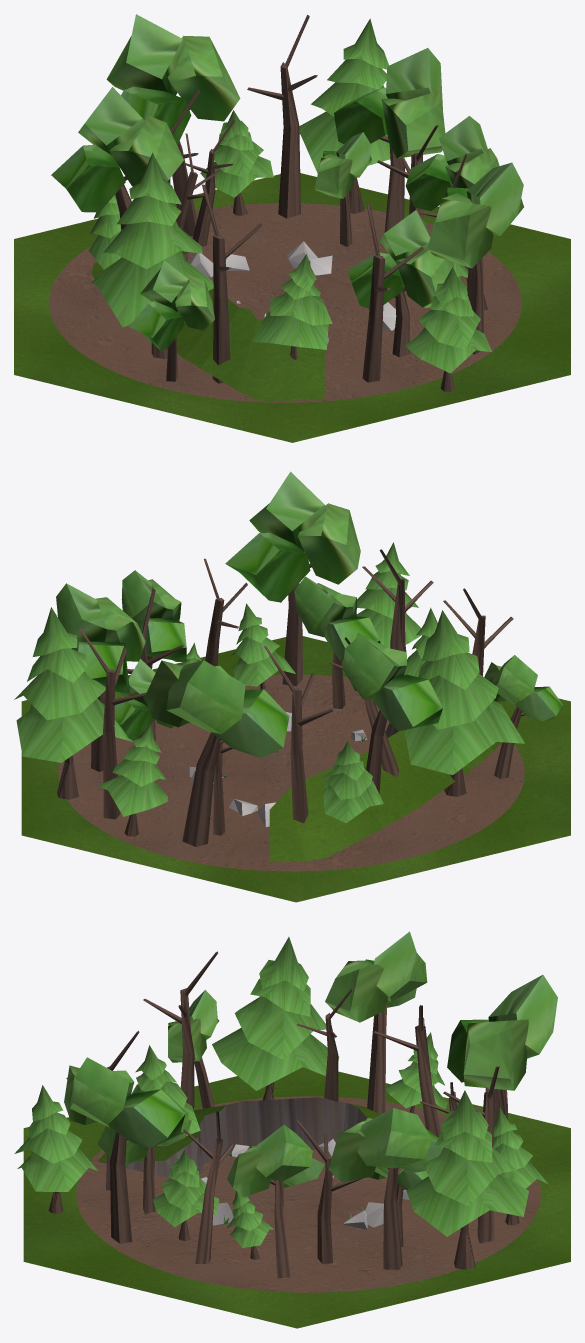
File: hubenviro_OLD2.glb
The picture shows the model from 3 angles, top to bottom: view 1: azimuth 30°, elevation 25°; view 2: azimuth 150°, elevation 25°; view 3: azimuth 270°, elevation 25°; orthographic projection.
Parts seen in each view (by area): view 1: polySurface187 pCylinder1, Tree2_geo Tree2_geo1 Tree2_geo2 Tree2_geo3 Tree2_geo4 Tree2_ (×8), Tree3_geo Tree3_geo1 Tree3_geo2 Tree3_geo3 Tree3_geo4 Tree3_ (×12), Tree1_geo Tree1_geo1 Tree1_geo2 Tree1_geo3 Tree1_geo4 Tree1_ (×6), scene polySurface152 grass_geo; view 2: polySurface187 pCylinder1, Tree2_geo Tree2_geo1 Tree2_geo2 Tree2_geo3 Tree2_geo4 Tree2_ (×8), Tree3_geo Tree3_geo1 Tree3_geo2 Tree3_geo3 Tree3_geo4 Tree3_ (×12), Tree1_geo Tree1_geo1 Tree1_geo2 Tree1_geo3 Tree1_geo4 Tree1_ (×8), scene polySurface152 grass_geo, Tree6:Trees1 Tree6:loosePineTree3 Tree6:lowPoly_EternityLoca; view 3: polySurface187 pCylinder1, Tree2_geo Tree2_geo1 Tree2_geo2 Tree2_geo3 Tree2_geo4 Tree2_ (×8), Tree3_geo Tree3_geo1 Tree3_geo2 Tree3_geo3 Tree3_geo4 Tree3_ (×14), Tree1_geo Tree1_geo1 Tree1_geo2 Tree1_geo3 Tree1_geo4 Tree1_ (×6), cliff_geo scene, scene polySurface152 grass_geo, Tree6:Trees1 Tree6:loosePineTree3 Tree6:lowPoly_EternityLoca.
Part boxes in pixels (left/top/right/bottom): polySurface187 pCylinder1: left=14, top=173, right=570, bottom=442; Tree2_geo Tree2_geo1 Tree2_geo2 Tree2_geo3 Tree2_geo4 Tree2_ (×8): left=51, top=14, right=523, bottom=381; Tree3_geo Tree3_geo1 Tree3_geo2 Tree3_geo3 Tree3_geo4 Tree3_ (×12): left=88, top=18, right=491, bottom=373; Tree1_geo Tree1_geo1 Tree1_geo2 Tree1_geo3 Tree1_geo4 Tree1_ (×6): left=176, top=15, right=438, bottom=383; scene polySurface152 grass_geo: left=91, top=251, right=324, bottom=402; polySurface187 pCylinder1: left=21, top=636, right=570, bottom=902; Tree2_geo Tree2_geo1 Tree2_geo2 Tree2_geo3 Tree2_geo4 Tree2_ (×8): left=56, top=471, right=562, bottom=846; Tree3_geo Tree3_geo1 Tree3_geo2 Tree3_geo3 Tree3_geo4 Tree3_ (×12): left=14, top=542, right=524, bottom=823; Tree1_geo Tree1_geo1 Tree1_geo2 Tree1_geo3 Tree1_geo4 Tree1_ (×8): left=78, top=549, right=513, bottom=835; scene polySurface152 grass_geo: left=269, top=730, right=501, bottom=861; Tree6:Trees1 Tree6:loosePineTree3 Tree6:lowPoly_EternityLoca: left=57, top=755, right=78, bottom=799; polySurface187 pCylinder1: left=23, top=1067, right=570, bottom=1328; Tree2_geo Tree2_geo1 Tree2_geo2 Tree2_geo3 Tree2_geo4 Tree2_ (×8): left=64, top=931, right=557, bottom=1278; Tree3_geo Tree3_geo1 Tree3_geo2 Tree3_geo3 Tree3_geo4 Tree3_ (×14): left=14, top=937, right=548, bottom=1247; Tree1_geo Tree1_geo1 Tree1_geo2 Tree1_geo3 Tree1_geo4 Tree1_ (×6): left=143, top=951, right=499, bottom=1263; cliff_geo scene: left=98, top=1097, right=367, bottom=1177; scene polySurface152 grass_geo: left=97, top=1103, right=441, bottom=1161; Tree6:Trees1 Tree6:loosePineTree3 Tree6:lowPoly_EternityLoca: left=454, top=1224, right=475, bottom=1269.
Size of the model in its own units: 33.19 by 14.66 by 29.25.
6 materials, 6 textured.
